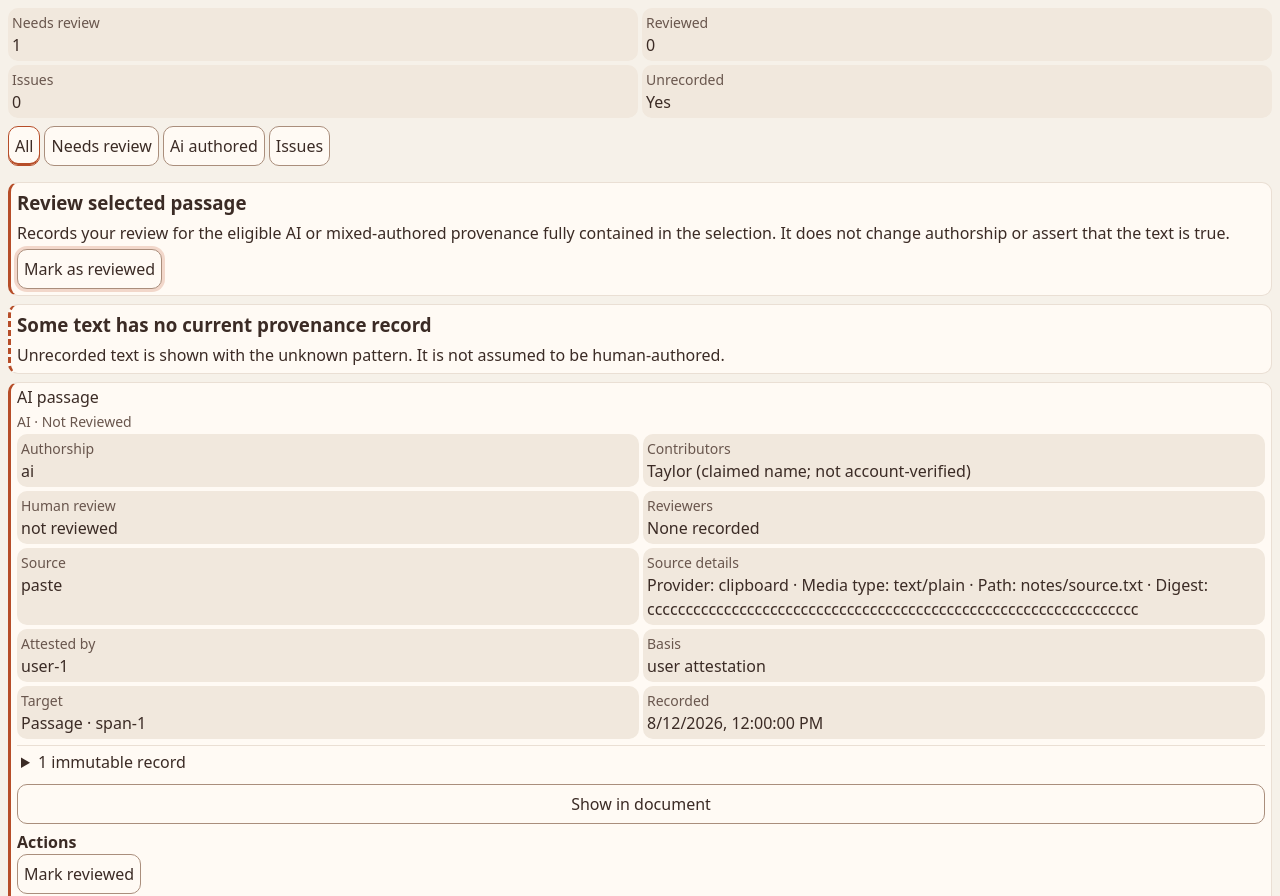
ProvenancePanel › keeps a completed selection action dismissed after its successor refreshes
Click the button "Mark as reviewed".
click(90, 269)  # box x1=17 y1=249 x2=162 y2=289
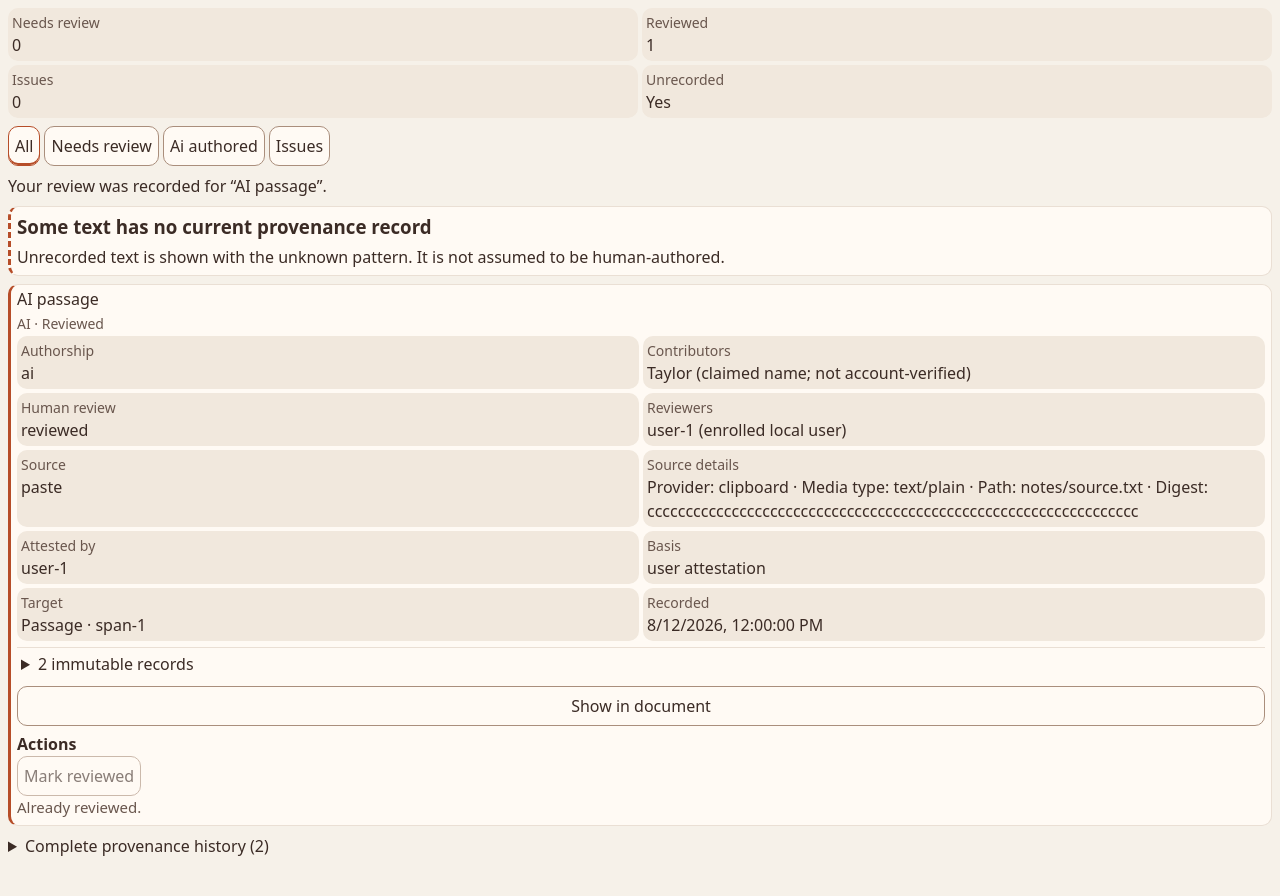
Now the text "AI · reviewed" is shown, box x1=17 y1=314 x2=104 y2=333
Now the button "Mark as reviewed" is gone
